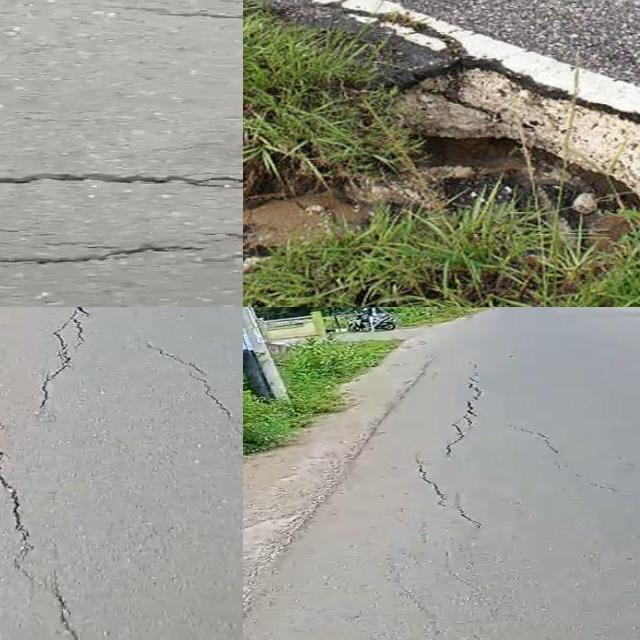Melintang: (0, 218, 243, 278), (0, 159, 243, 201)
Memanjang: (0, 411, 102, 640), (403, 351, 490, 536), (25, 307, 93, 430)
Pinggir: (337, 14, 640, 246)
